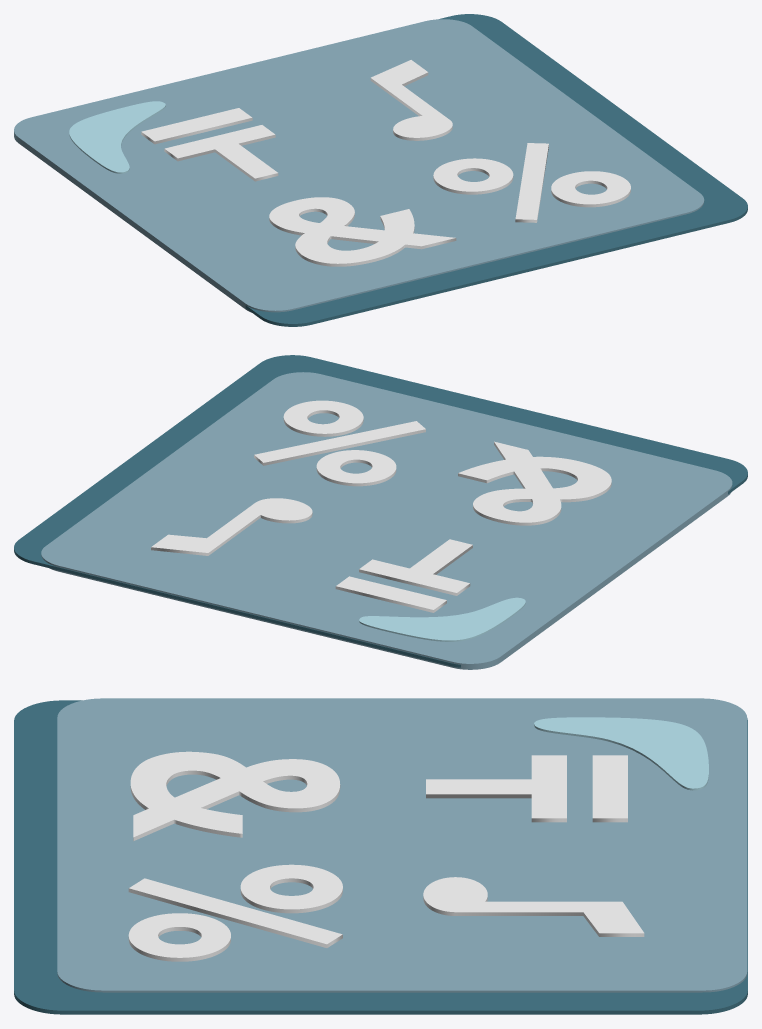
File: emoji_u1f523.glb
3 renders of one model, top to bottom at view 1: azimuth 30°, elevation 25°; view 2: azimuth 150°, elevation 25°; view 3: azimuth 270°, elevation 25°, orthographic. The views are drawn at different scales.
Parts seen in each view (by area): view 1: emoji_u1f523; view 2: emoji_u1f523; view 3: emoji_u1f523.
Part boxes in pixels (x1,y1,x2,y2): emoji_u1f523: (14, 14, 747, 326); emoji_u1f523: (14, 355, 747, 669); emoji_u1f523: (14, 698, 747, 1014).
Bounding box in the file's own units: 0.0339 × 0.0008 × 0.0339.
